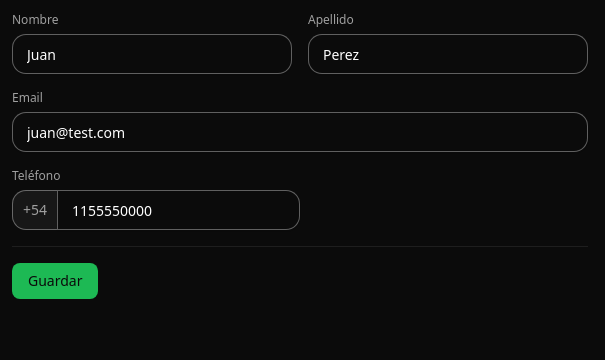
Test: PersonalInfoForm › shows validation error when first name is cleared
The image size is (605, 360).
Clear the field labelled "Nombre": {"x": 152, "y": 54} [12, 34, 292, 74]
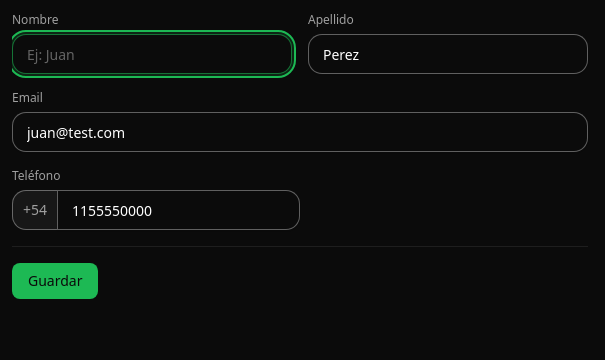
Click the button "Guardar": {"x": 55, "y": 281} [12, 263, 98, 299]
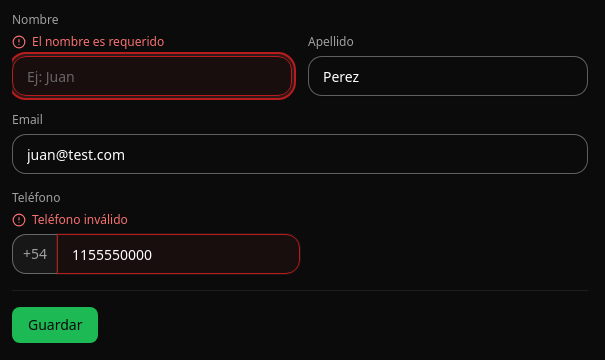
Result: the text "El nombre es requerido" is shown at [12, 33, 164, 50]
